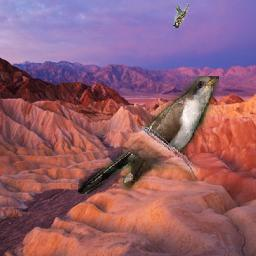Cuckoo: (79, 76, 220, 194)
Sparrow: (173, 4, 189, 29)
